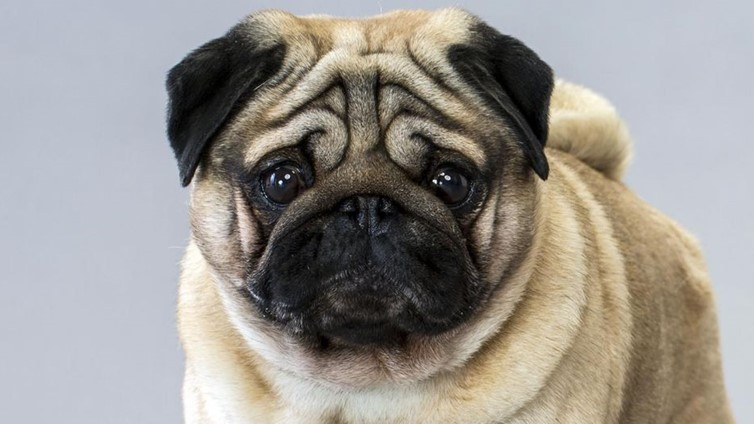dog: (164, 6, 742, 424)
